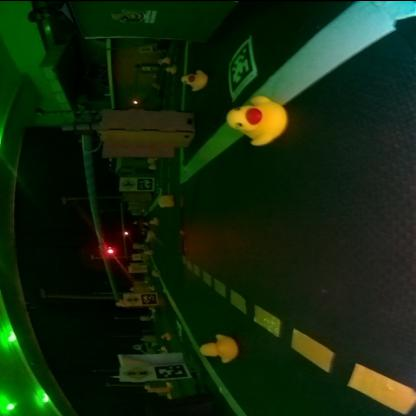Duckie: (226, 96, 286, 145), (199, 334, 235, 362), (182, 70, 207, 90), (156, 194, 174, 206), (161, 332, 171, 340), (166, 66, 174, 74), (149, 219, 157, 224)
Intersection sign: (119, 178, 133, 190)
QR code: (227, 36, 255, 100), (155, 364, 186, 378), (136, 178, 152, 190), (140, 292, 156, 304)
Signal sign: (120, 368, 150, 381), (124, 294, 138, 305)
Traffic light: (106, 247, 114, 254)
